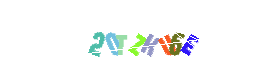0: (84, 0, 164, 80)
2: (57, 0, 137, 80)
6: (135, 0, 215, 80)
E: (148, 0, 228, 80)
K: (99, 0, 179, 80)
T: (94, 0, 174, 80)
U: (126, 0, 206, 80)
Z: (97, 0, 177, 80)
